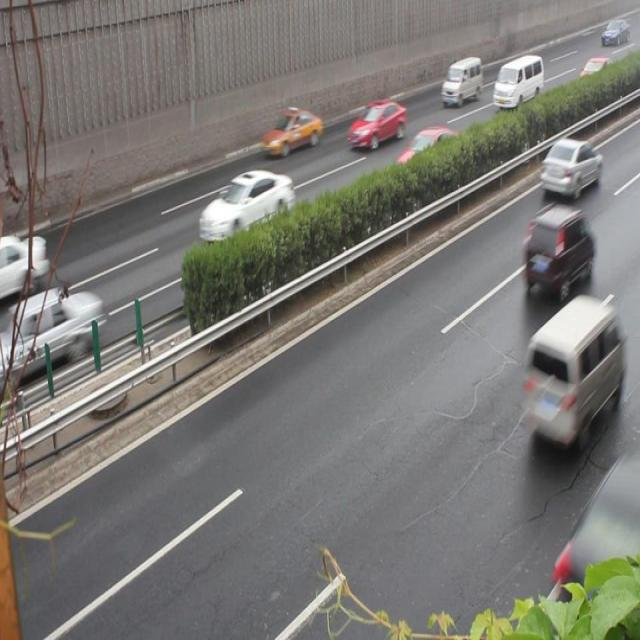car: (0, 283, 100, 376), (198, 170, 293, 248), (521, 207, 592, 300), (394, 126, 462, 188), (538, 137, 598, 198), (261, 107, 321, 161), (346, 100, 405, 150)
truck: (519, 297, 614, 446), (491, 56, 542, 111), (438, 60, 480, 106)
